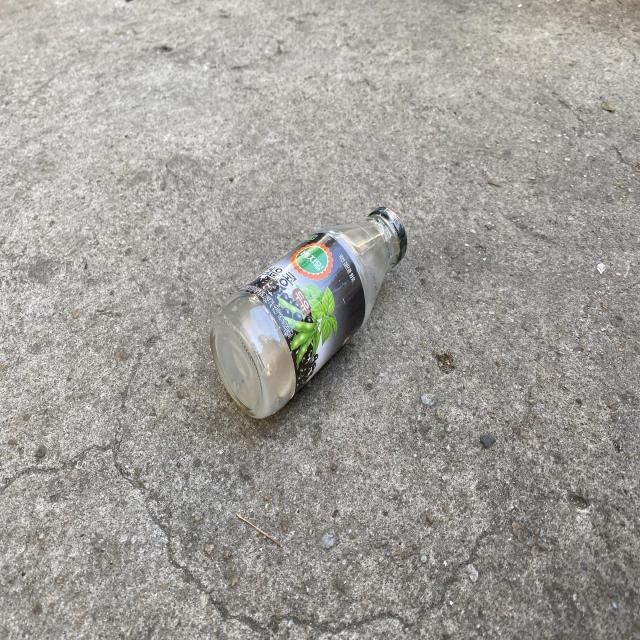glass: (210, 206, 407, 419)
